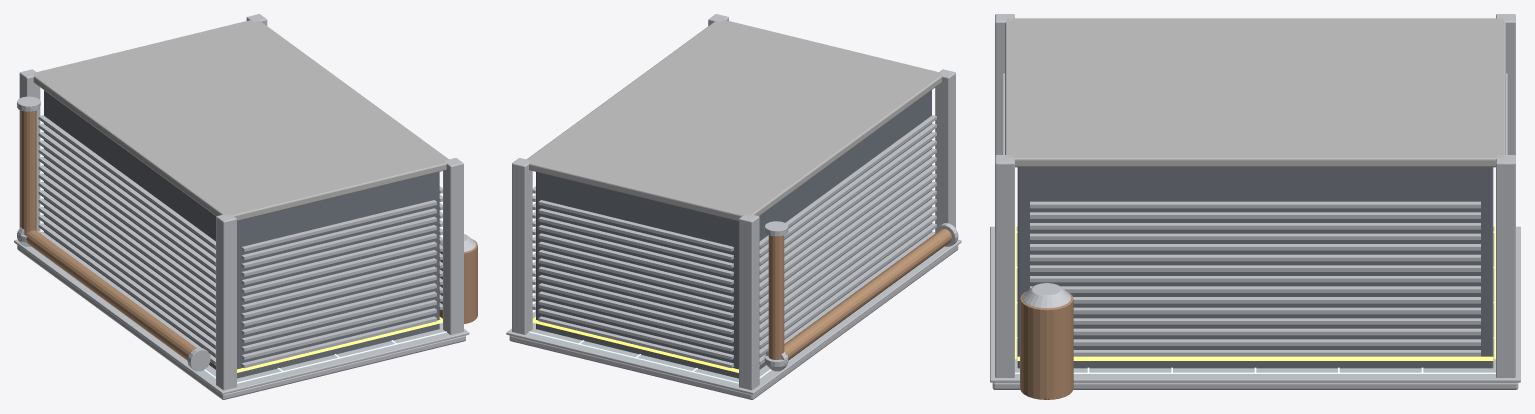
Rendered from mech_4x6_office.glb.
The picture shows the model from 3 angles, left to right: view 1: azimuth 30°, elevation 25°; view 2: azimuth 150°, elevation 25°; view 3: azimuth 270°, elevation 25°; orthographic projection. The views are drawn at different scales.
Parts seen in each view (by area): view 1: int_ceiling, ext_core, ext_louver2, ext_louver3, int_columns, int_slab_edge, ext_bigpipe, int_slab, ext_bigpipe2, ext_tank, ext_mech_glow, int_grid (+2 smaller); view 2: int_ceiling, ext_core, ext_louver2, ext_louver1, int_columns, int_slab_edge, ext_bigpipe, int_slab, ext_bigpipe2, ext_mech_glow, int_grid; view 3: int_ceiling, ext_core, ext_louver0, int_columns, int_slab_edge, ext_tank, int_slab, ext_mech_glow, ext_tank_cap, int_grid.
Part boxes in pixels (<box>): int_ceiling: <box>32,19,448,221</box>; ext_core: <box>44,90,439,378</box>; ext_louver2: <box>38,115,215,364</box>; ext_louver3: <box>241,200,436,368</box>; int_columns: <box>19,14,463,390</box>; int_slab_edge: <box>14,239,469,394</box>; ext_bigpipe: <box>24,230,196,360</box>; int_slab: <box>17,245,465,399</box>; ext_bigpipe2: <box>21,110,36,234</box>; ext_tank: <box>439,239,477,323</box>; ext_mech_glow: <box>211,317,442,372</box>; int_grid: <box>204,321,446,383</box>; int_ceiling: <box>526,20,942,221</box>; ext_core: <box>536,90,931,378</box>; ext_louver2: <box>759,115,936,364</box>; ext_louver1: <box>538,200,733,368</box>; int_columns: <box>512,14,955,390</box>; int_slab_edge: <box>506,239,961,394</box>; ext_bigpipe: <box>784,229,951,360</box>; int_slab: <box>509,245,958,399</box>; ext_bigpipe2: <box>768,235,784,359</box>; ext_mech_glow: <box>532,317,762,372</box>; int_grid: <box>528,321,771,383</box>; int_ceiling: <box>1005,18,1505,167</box>; ext_core: <box>1017,167,1493,368</box>; ext_louver0: <box>1030,201,1480,356</box>; int_columns: <box>995,14,1515,377</box>; int_slab_edge: <box>990,226,1520,382</box>; ext_tank: <box>1020,291,1073,399</box>; int_slab: <box>992,382,1518,389</box>; ext_mech_glow: <box>1015,225,1495,360</box>; ext_tank_cap: <box>1022,283,1071,308</box>; int_grid: <box>1015,231,1495,373</box>.
Size of the model in its own units: 5.1 by 3 by 6.36.
